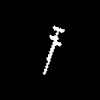double_crochet: (43, 26, 63, 74)
